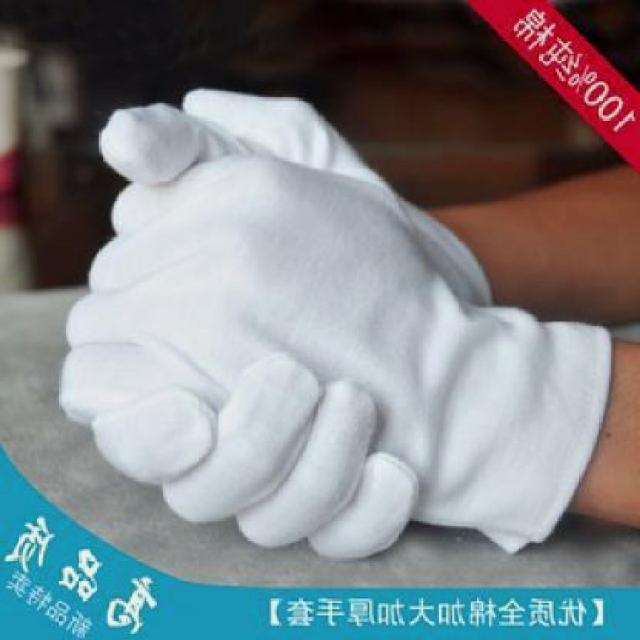hand_glove: (68, 88, 488, 558)
